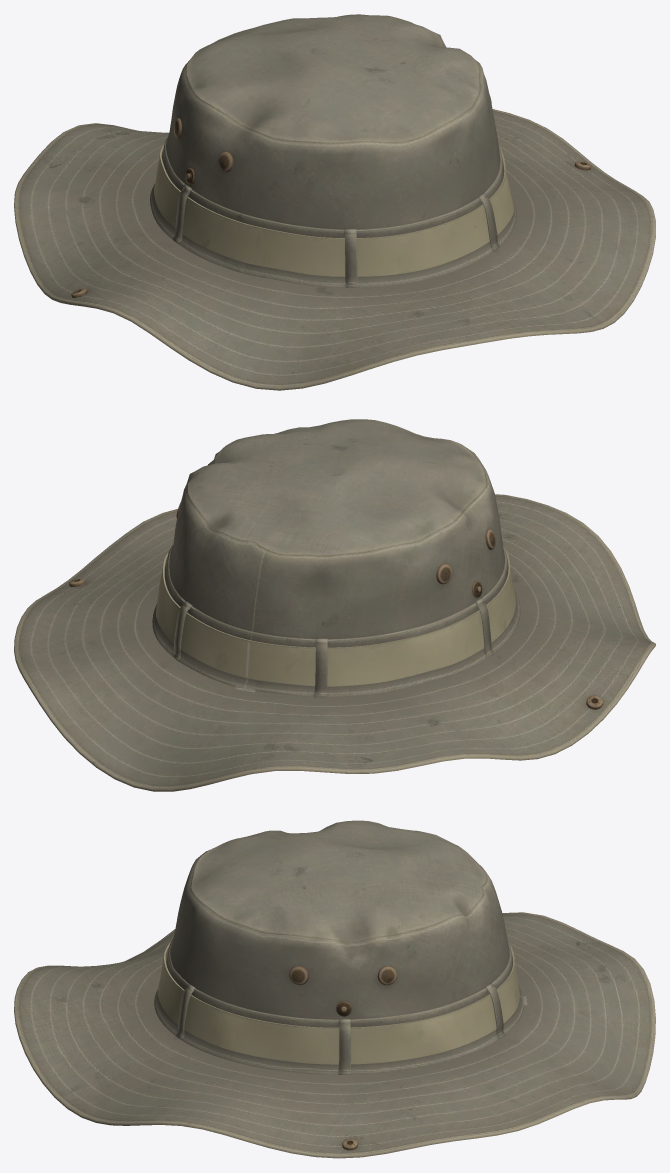
Rendered from fishermans_hat.glb.
3 renders of one model, top to bottom at view 1: azimuth 30°, elevation 25°; view 2: azimuth 150°, elevation 25°; view 3: azimuth 270°, elevation 25°, orthographic. The views are drawn at different scales.
Parts seen in each view (by area): view 1: fishermans_hat; view 2: fishermans_hat; view 3: fishermans_hat.
Part boxes in pixels (x1,y1,x2,y2): fishermans_hat: (14, 14, 655, 390); fishermans_hat: (14, 419, 655, 791); fishermans_hat: (14, 820, 655, 1158).
Bounding box in the file's own units: 0.3236 × 0.124 × 0.35.
1 material, 1 textured.
